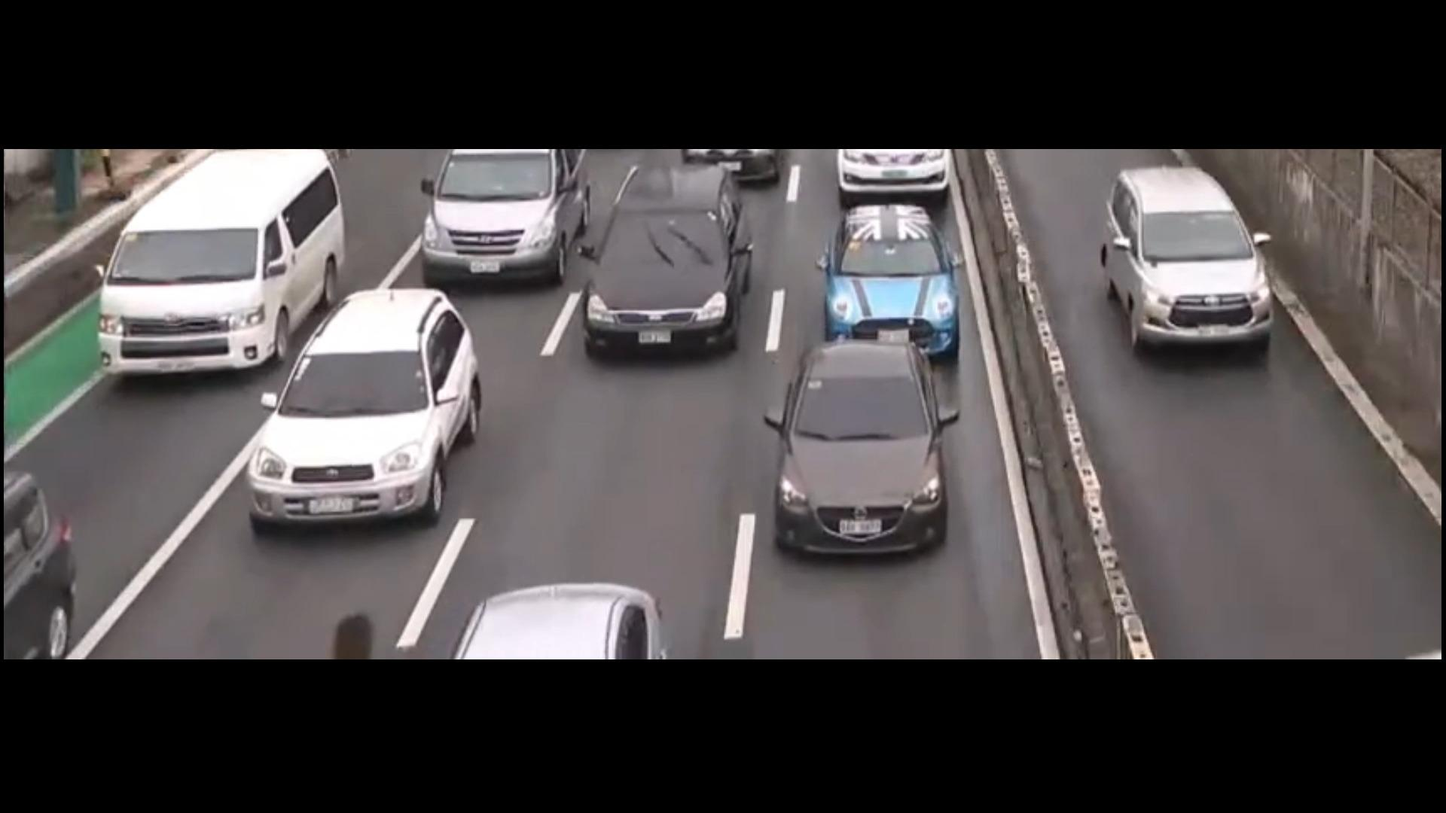SUV: (223, 282, 502, 534), (1093, 121, 1271, 382), (556, 157, 761, 381), (409, 149, 592, 292)
Sedan: (745, 330, 979, 597), (806, 190, 970, 375)
Van: (83, 149, 334, 391)
